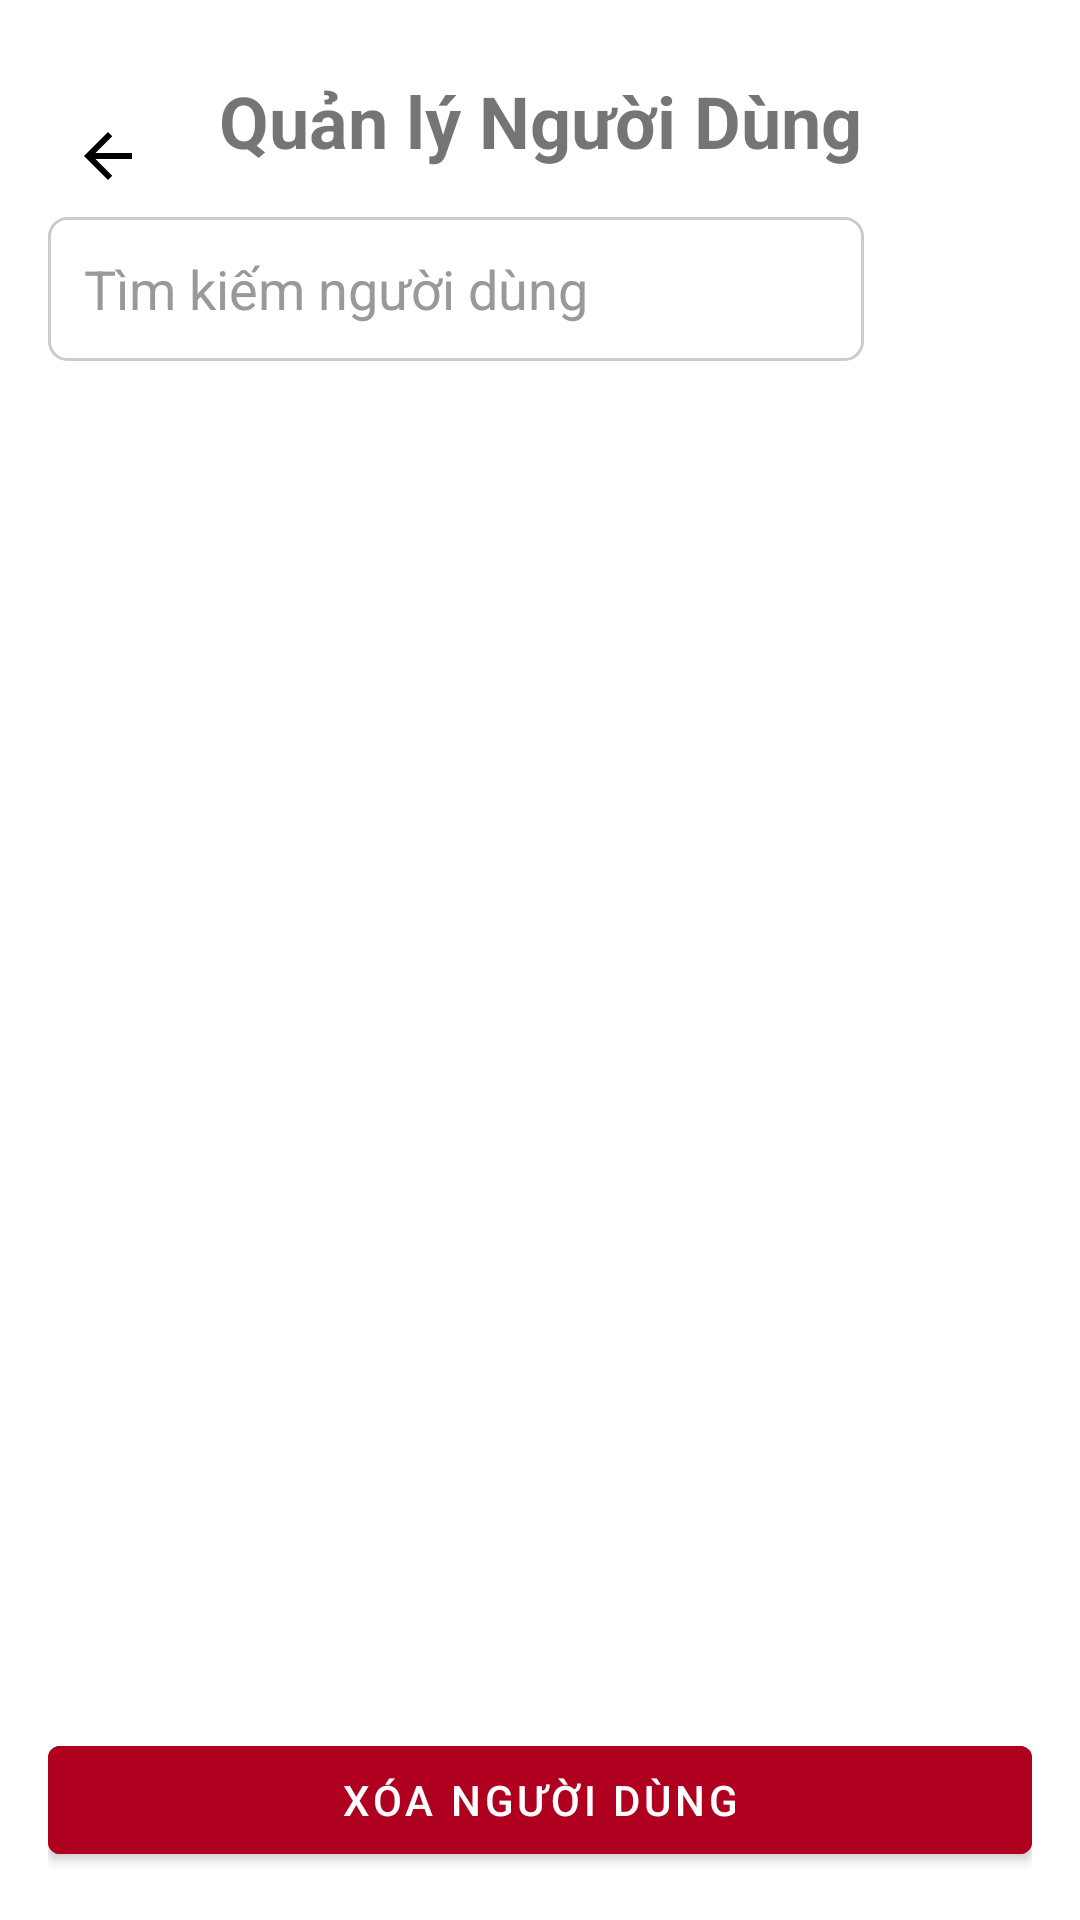

Icons on this 1080 × 1920 Android screen, each with its box as (x1, y1, x2, y2):
Quay lại: (84, 132, 132, 180)
